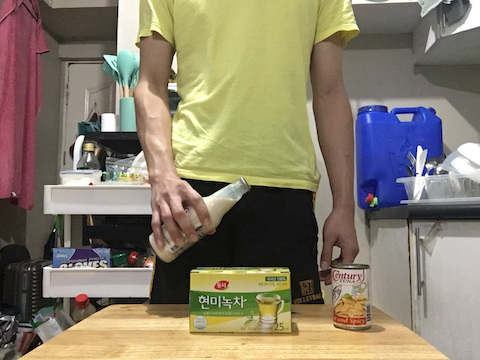bottle: (147, 173, 252, 264)
box: (186, 264, 297, 336)
can: (328, 259, 378, 335)
grab: (147, 180, 218, 253)
